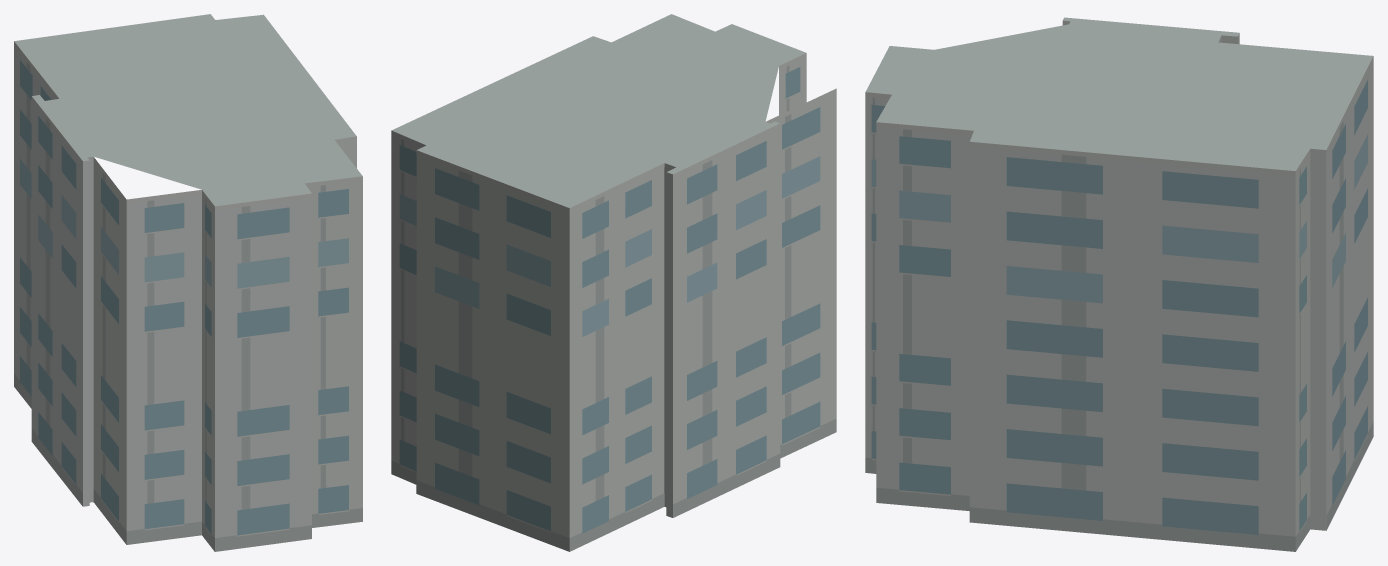
File: survey-upis-32895367.glb
The picture shows the model from 3 angles, left to right: view 1: azimuth 30°, elevation 25°; view 2: azimuth 150°, elevation 25°; view 3: azimuth 270°, elevation 25°; orthographic projection. The views are drawn at different scales.
Parts seen in each view (by area): view 1: survey-upis-32895367.tmp; view 2: survey-upis-32895367.tmp; view 3: survey-upis-32895367.tmp.
Part boxes in pixels (x1=…): survey-upis-32895367.tmp: x1=14, y1=14, x2=362, y2=551; survey-upis-32895367.tmp: x1=391, y1=14, x2=836, y2=551; survey-upis-32895367.tmp: x1=865, y1=17, x2=1373, y2=551.
Size of the model in its own units: 17.67 by 19.95 by 24.14.
